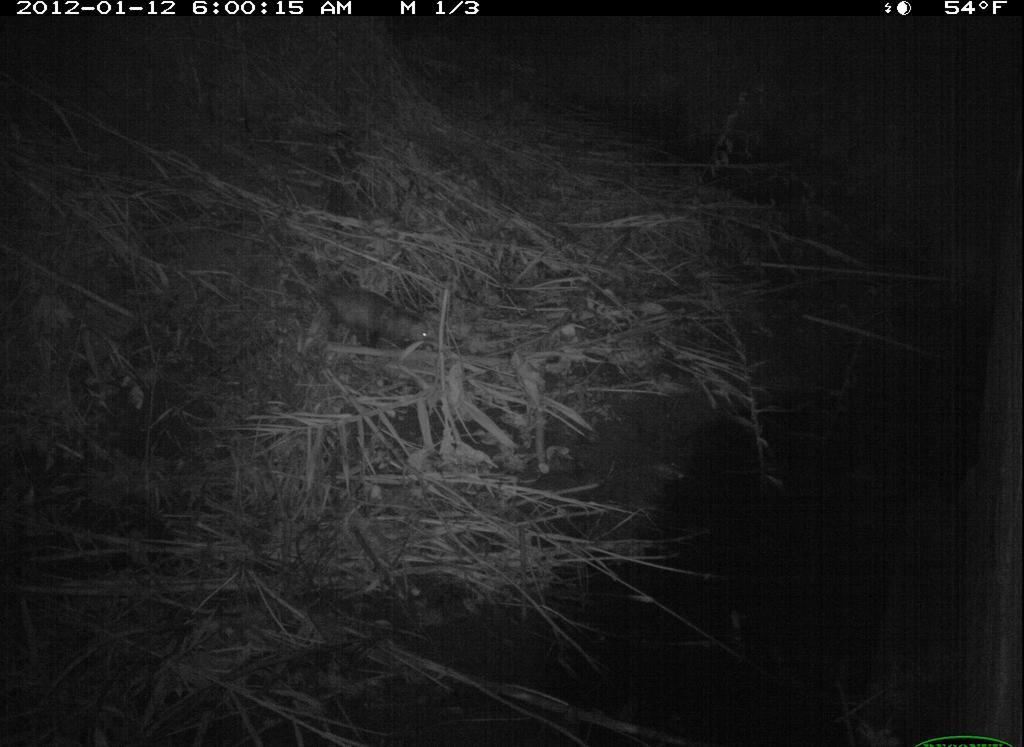opossum: (316, 273, 454, 357)
